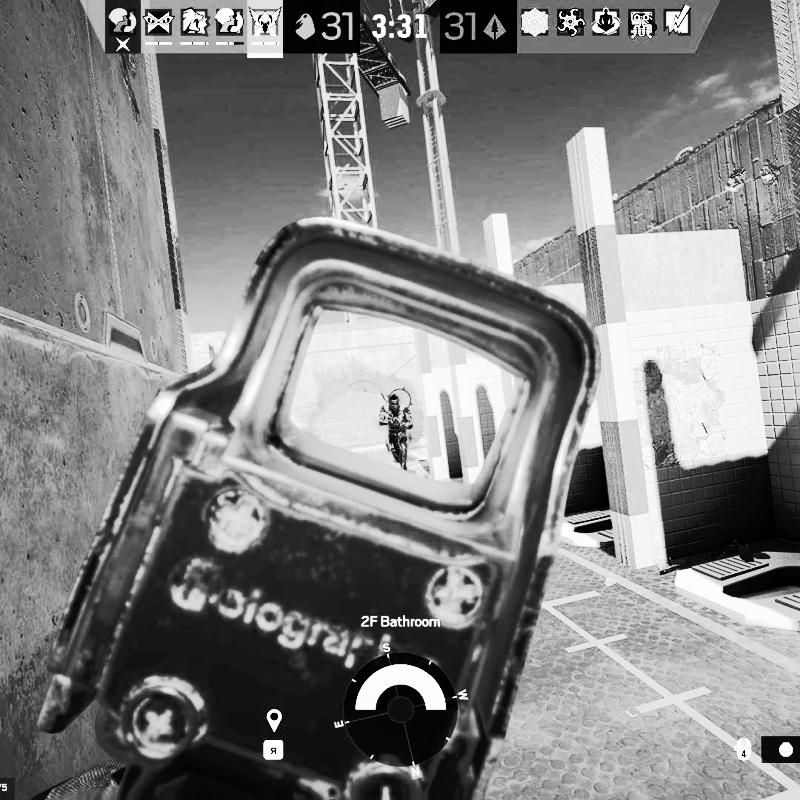Character: (376, 394, 415, 474)
Head: (388, 395, 401, 409)
